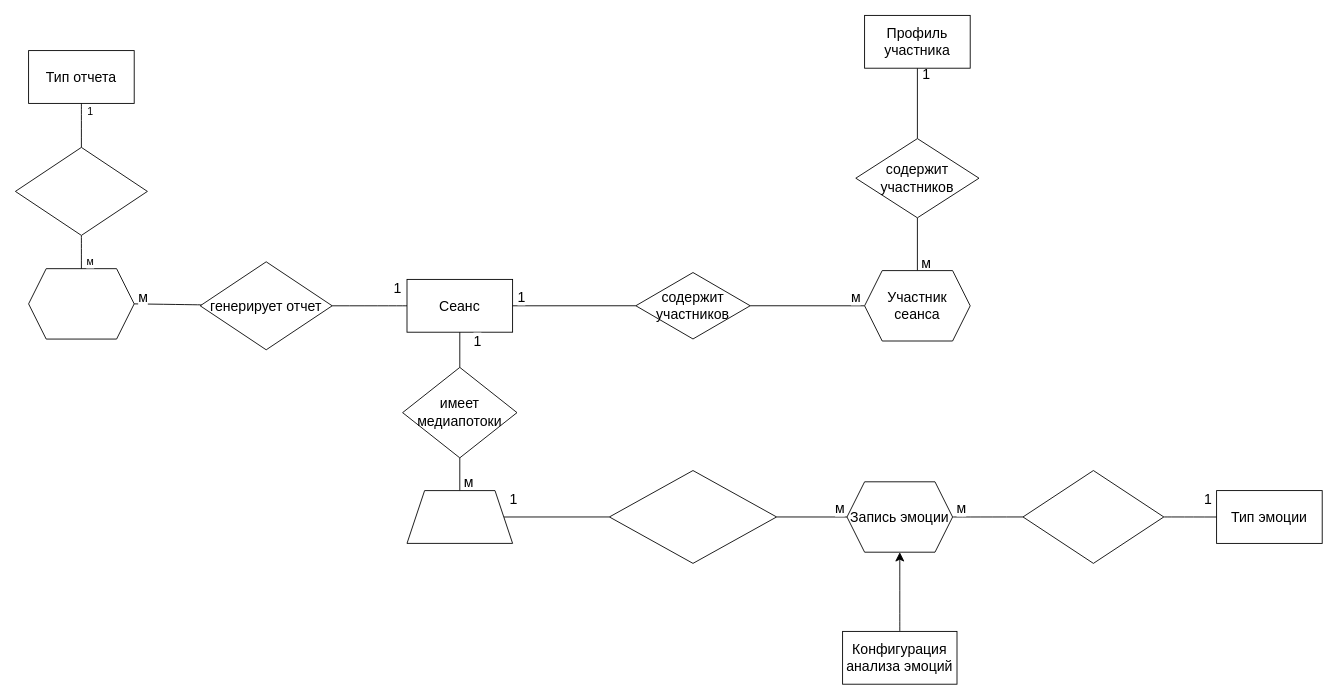
The diagram is 1338 pixels wide and 700 high, and some of its shapes have lost their labels. The shapes that lost their labels are listed below. From the top down, each one's centre as x and y in pixels, then its label:
At (x=81, y=191): "Определяет формат".
At (x=81, y=303): "Отчет".
At (x=459, y=516): "Медиапоток".
At (x=693, y=516): "зафиксирована в медиапотоке".
At (x=1093, y=516): "классифицируется как".
